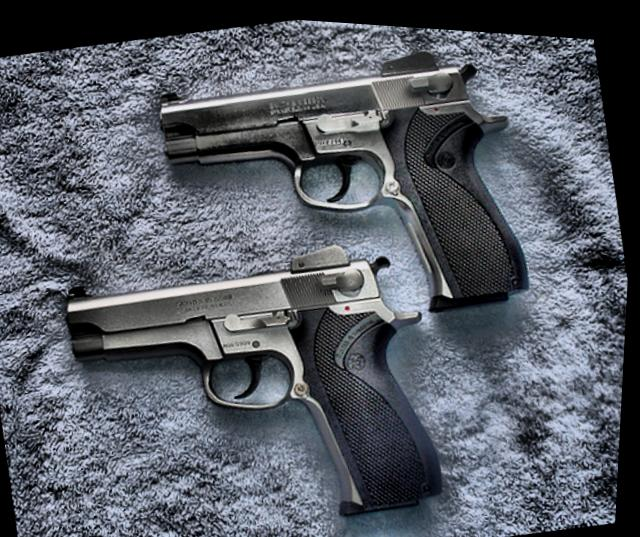pistol: (138, 12, 552, 358), (52, 218, 467, 537)
